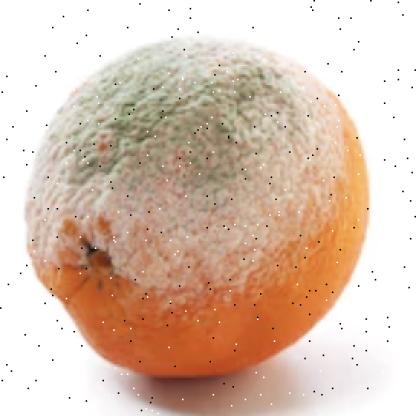rotten: (24, 34, 372, 378)
